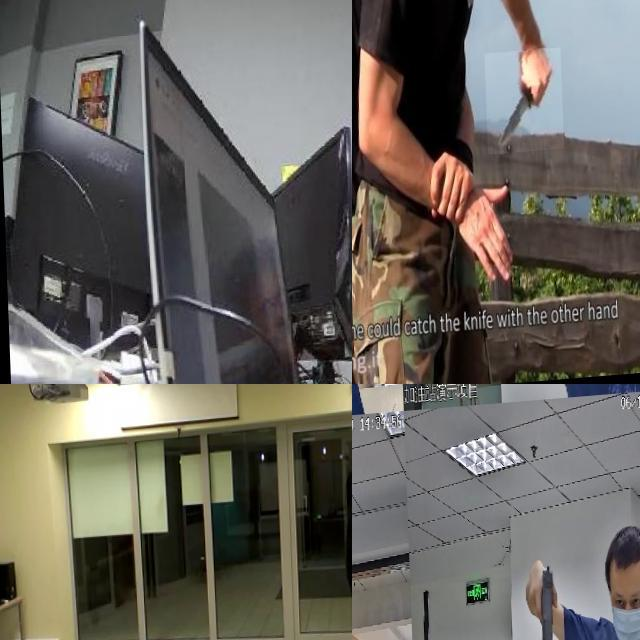-: (482, 56, 561, 162)
gun-knife-thesis - v11 Yolov5 augmented: (522, 570, 557, 640), (528, 384, 551, 433), (352, 571, 366, 640), (352, 384, 369, 426)
